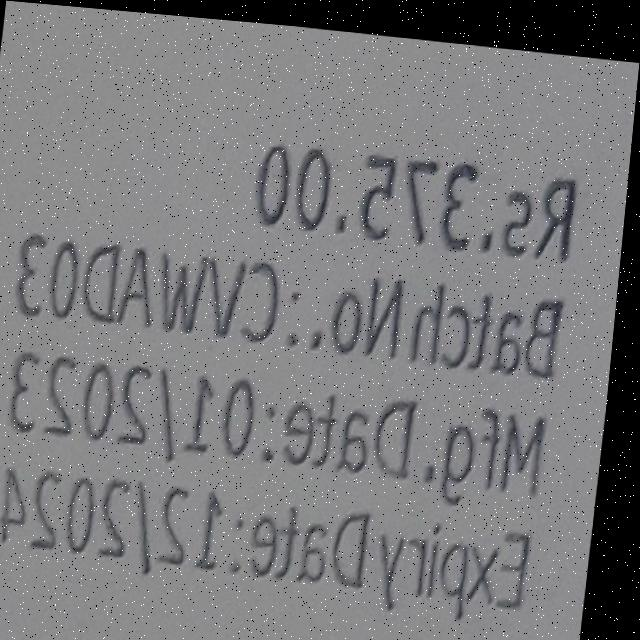sentence: (19, 351, 553, 495), (8, 465, 541, 608), (22, 231, 568, 368), (258, 139, 579, 250)
